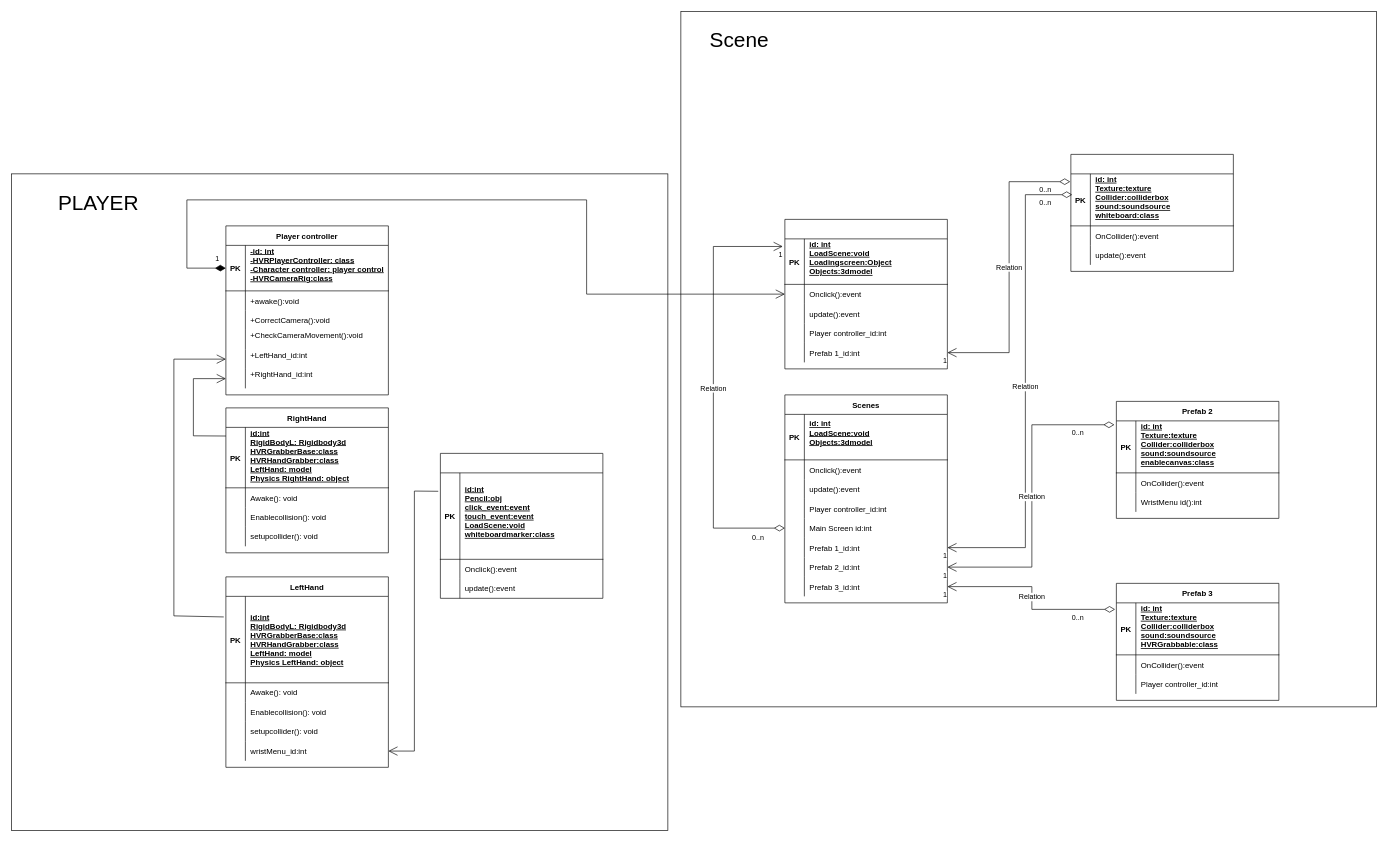
The diagram is 1388 pixels wide and 842 high, and some of its shapes have lost their labels. The box of each missing label's shape, as (x1, y1, x2, y2) in pixels:
Main Screen: (784, 219, 947, 369)
Prefab 1: (1070, 154, 1233, 271)
WristMenu: (440, 453, 603, 598)
